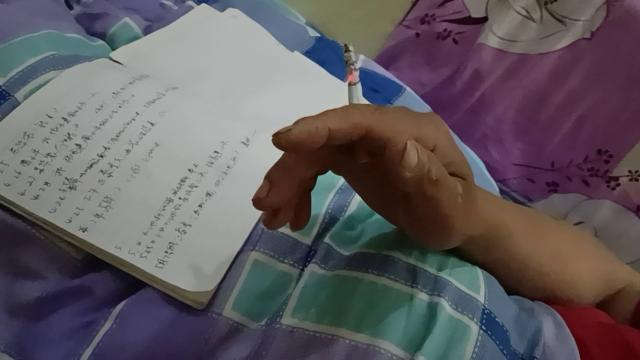Smoking: (344, 44, 371, 164)
